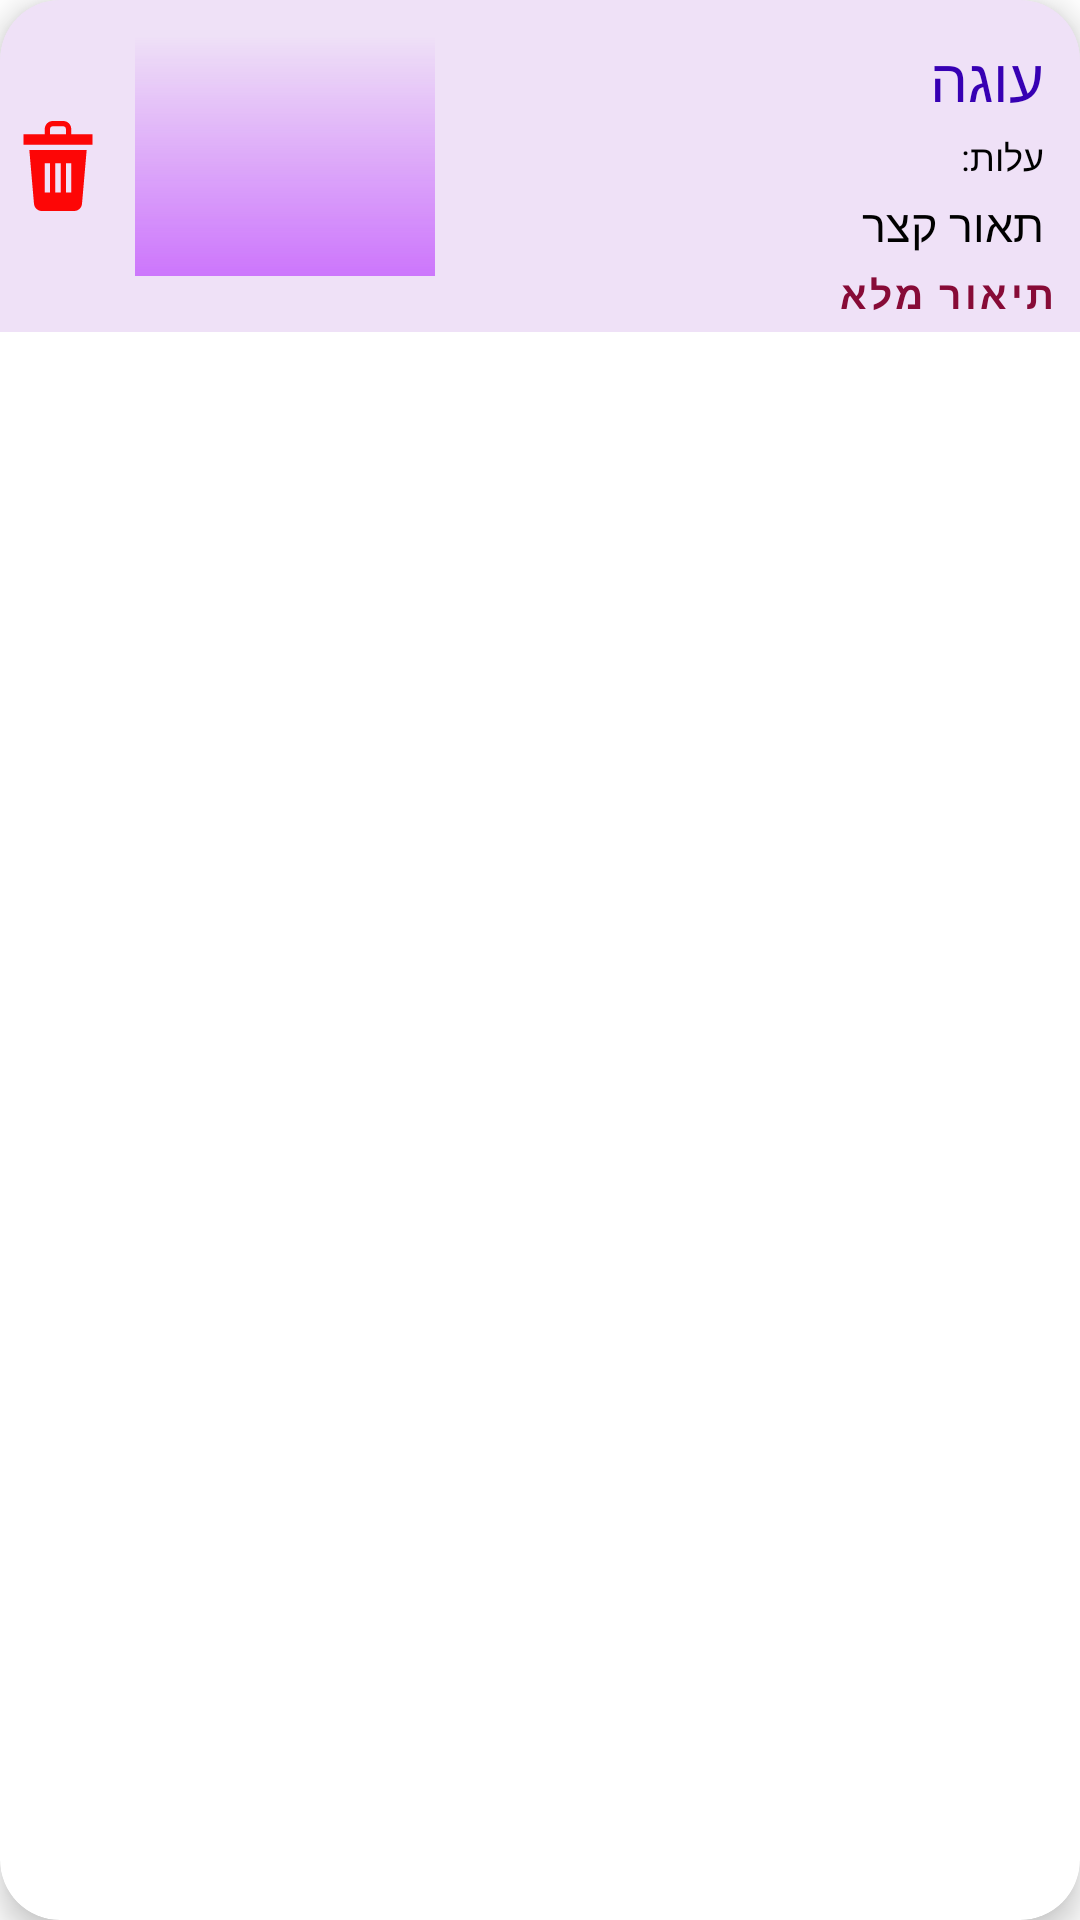

Screen size 1080w x 1920h. Icon name, then its center in pixels as point (x, y):
remove: point (58, 166)
